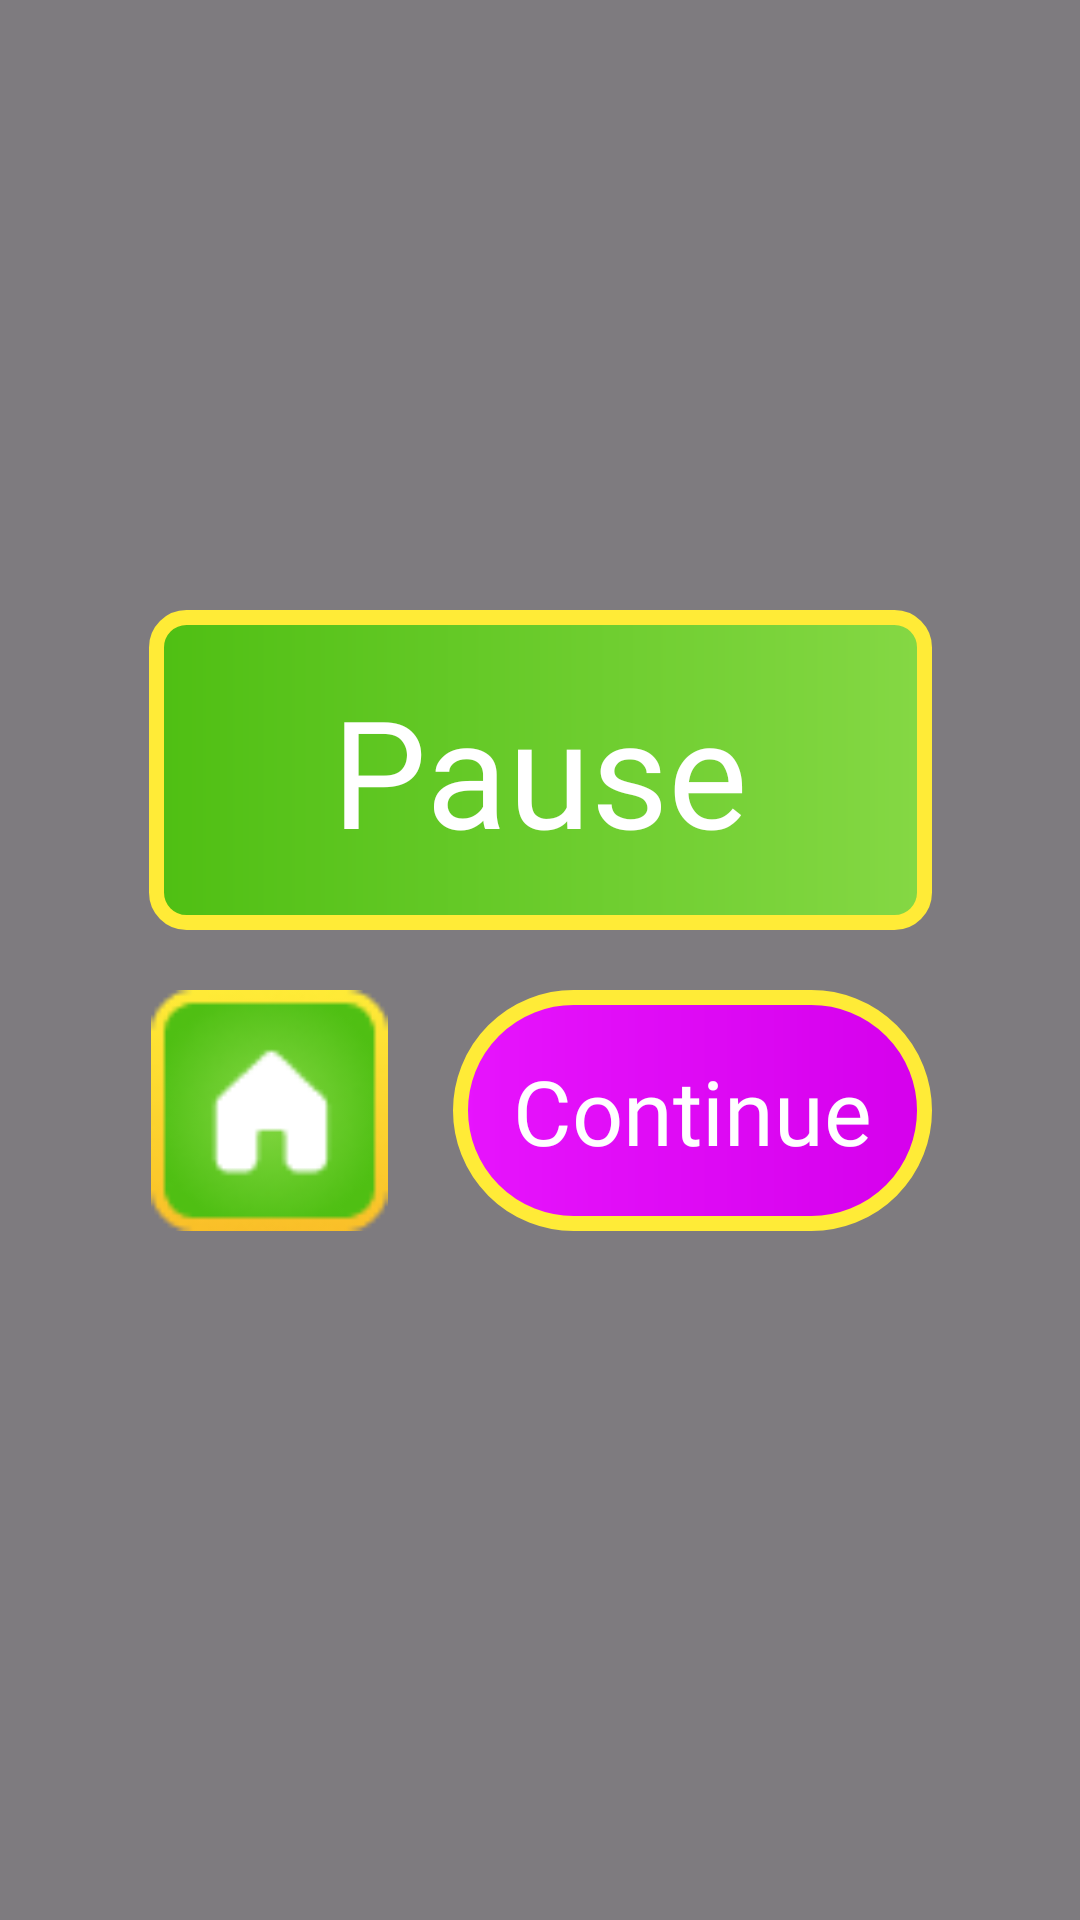

Where to tap for icons on this 1080px x 1920px app screen, as (x=x, y=y):
home: (x=269, y=1110)
